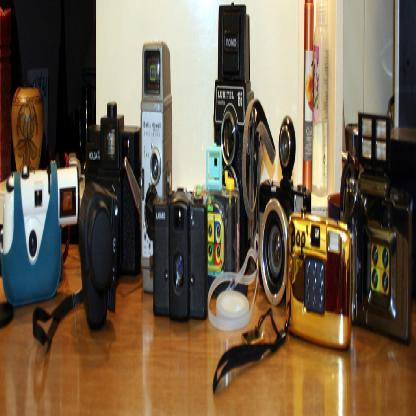Camera: (1, 46, 416, 352), (205, 20, 265, 188)
